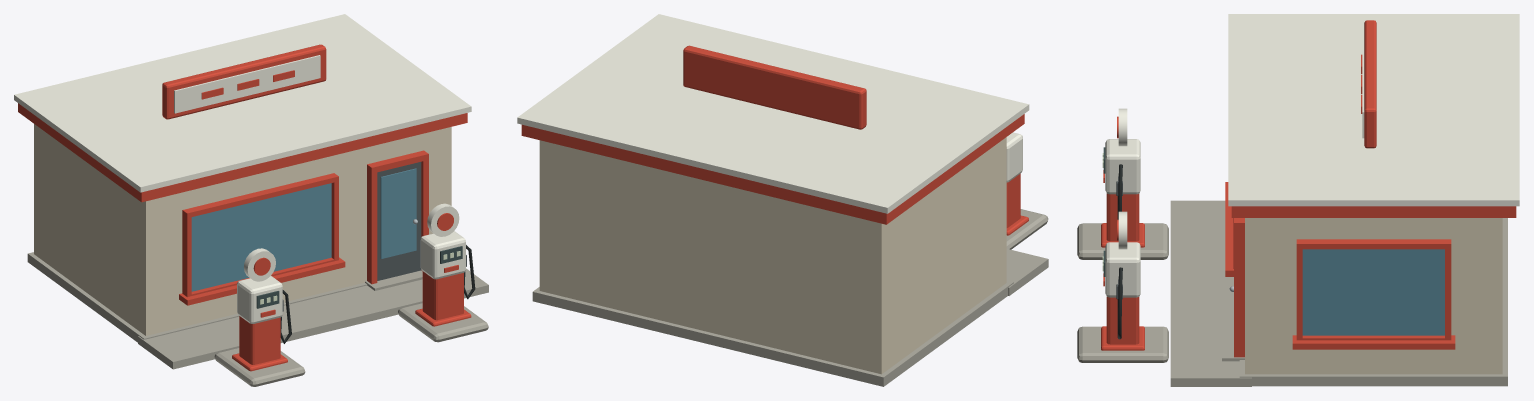
File: gas_station_vintage.glb
3 renders of one model, left to right at view 1: azimuth 30°, elevation 25°; view 2: azimuth 150°, elevation 25°; view 3: azimuth 270°, elevation 25°, orthographic. The views are drawn at different scales.
Visible parts, largest first — view 1: Vintage_Station_Roof_Cap, Vintage_Station_Office, Vintage_Station_Display_Window_Glass, Vintage_Station_Entrance_Slab, Vintage_Station_Flat_Roof, Vintage_Station_Sign_Face, Vintage_Station_Office_Door_Glass, Vintage_Station_Sign_Back, Vintage_Station_Foundation, Vintage_Station_Office_Door_Door, Vintage_Fuel_Pump_1_Lower_Body, Vintage_Fuel_Pump_0_Lower_Body (+15 smaller); view 2: Vintage_Station_Office, Vintage_Station_Roof_Cap, Vintage_Station_Sign_Back, Vintage_Station_Foundation, Vintage_Station_Flat_Roof, Vintage_Station_Entrance_Slab, Vintage_Pump_Island_0, Vintage_Fuel_Pump_0_Upper_Body, Vintage_Fuel_Pump_0_Lower_Body; view 3: Vintage_Station_Roof_Cap, Vintage_Station_Office, Vintage_Station_Right_Window_Glass, Vintage_Station_Entrance_Slab, Vintage_Station_Foundation, Vintage_Station_Flat_Roof, Vintage_Pump_Island_1, Vintage_Pump_Island_0, Vintage_Fuel_Pump_1_Upper_Body, Vintage_Fuel_Pump_0_Upper_Body, Vintage_Station_Right_Window_Horizontal_Frame_1, Vintage_Station_Right_Window_Sill (+12 smaller).
Part boxes in pixels (x1=…): Vintage_Station_Roof_Cap: x1=14, y1=14, x2=471, y2=192; Vintage_Station_Office: x1=34, y1=124, x2=451, y2=335; Vintage_Station_Display_Window_Glass: x1=191, y1=183, x2=331, y2=291; Vintage_Station_Entrance_Slab: x1=138, y1=268, x2=488, y2=369; Vintage_Station_Flat_Roof: x1=18, y1=103, x2=467, y2=202; Vintage_Station_Sign_Face: x1=174, y1=55, x2=320, y2=113; Vintage_Station_Office_Door_Glass: x1=380, y1=168, x2=416, y2=258; Vintage_Station_Sign_Back: x1=162, y1=44, x2=326, y2=119; Vintage_Station_Foundation: x1=27, y1=252, x2=367, y2=342; Vintage_Station_Office_Door_Door: x1=377, y1=162, x2=421, y2=280; Vintage_Fuel_Pump_1_Lower_Body: x1=422, y1=271, x2=463, y2=320; Vintage_Fuel_Pump_0_Lower_Body: x1=239, y1=316, x2=280, y2=364; Vintage_Station_Office: x1=539, y1=137, x2=1006, y2=374; Vintage_Station_Roof_Cap: x1=517, y1=14, x2=1029, y2=213; Vintage_Station_Sign_Back: x1=683, y1=45, x2=866, y2=129; Vintage_Station_Foundation: x1=532, y1=280, x2=1013, y2=386; Vintage_Station_Flat_Roof: x1=521, y1=114, x2=1024, y2=224; Vintage_Station_Entrance_Slab: x1=1006, y1=249, x2=1048, y2=295; Vintage_Pump_Island_0: x1=1006, y1=209, x2=1048, y2=249; Vintage_Fuel_Pump_0_Upper_Body: x1=1006, y1=132, x2=1022, y2=182; Vintage_Fuel_Pump_0_Lower_Body: x1=1006, y1=173, x2=1020, y2=227; Vintage_Station_Roof_Cap: x1=1228, y1=14, x2=1519, y2=206; Vintage_Station_Office: x1=1245, y1=218, x2=1502, y2=374; Vintage_Station_Right_Window_Glass: x1=1302, y1=249, x2=1444, y2=335; Vintage_Station_Entrance_Slab: x1=1170, y1=200, x2=1251, y2=386; Vintage_Station_Foundation: x1=1239, y1=218, x2=1507, y2=386; Vintage_Station_Flat_Roof: x1=1231, y1=206, x2=1516, y2=217; Vintage_Pump_Island_1: x1=1077, y1=326, x2=1168, y2=362; Vintage_Pump_Island_0: x1=1077, y1=223, x2=1168, y2=259; Vintage_Fuel_Pump_1_Upper_Body: x1=1105, y1=242, x2=1140, y2=297; Vintage_Fuel_Pump_0_Upper_Body: x1=1105, y1=139, x2=1140, y2=194; Vintage_Station_Right_Window_Horizontal_Frame_1: x1=1296, y1=239, x2=1451, y2=249; Vintage_Station_Right_Window_Sill: x1=1292, y1=335, x2=1455, y2=349.
Size of the model in its own units: 6.54 by 3.81 by 6.53.
